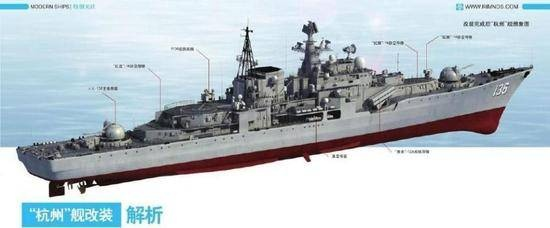warship: (23, 16, 539, 185)
